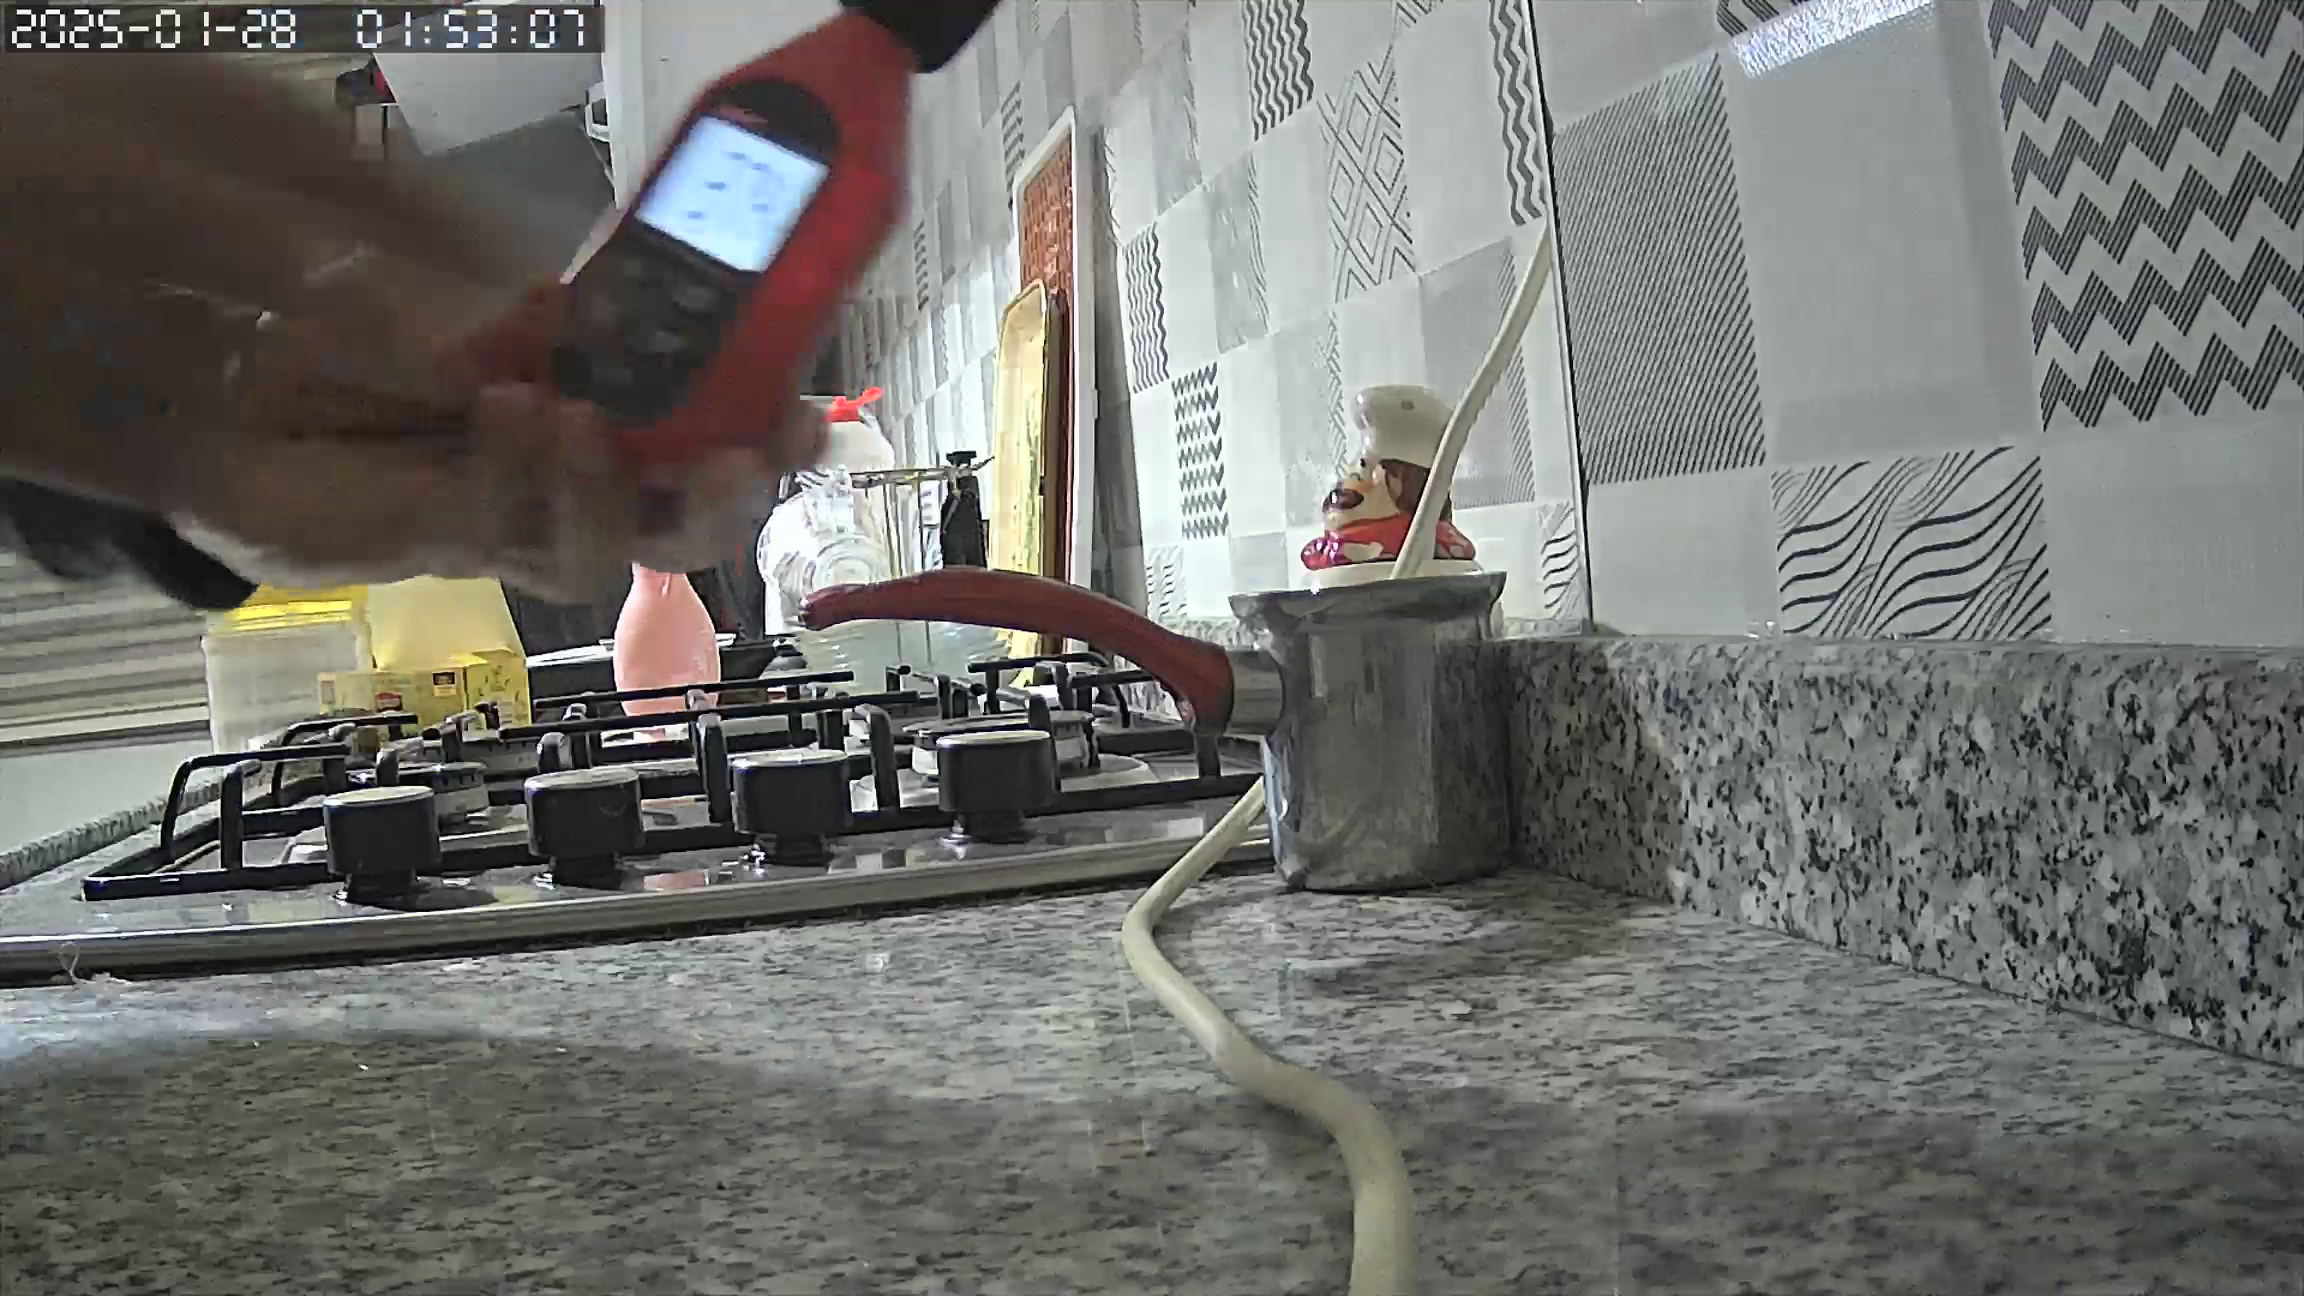screen: (630, 117, 828, 279)
